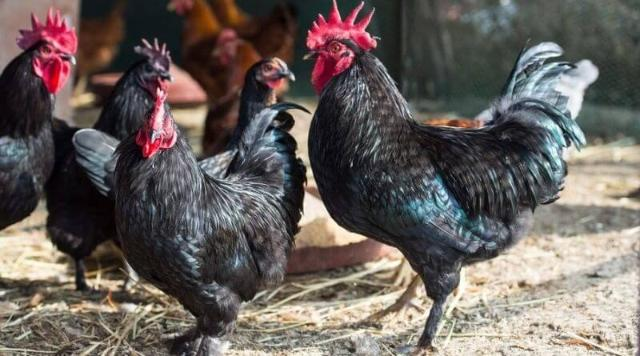Chicken: (303, 0, 599, 353), (111, 89, 308, 356), (46, 37, 174, 292), (0, 5, 76, 226), (201, 29, 266, 157), (236, 56, 299, 153)
